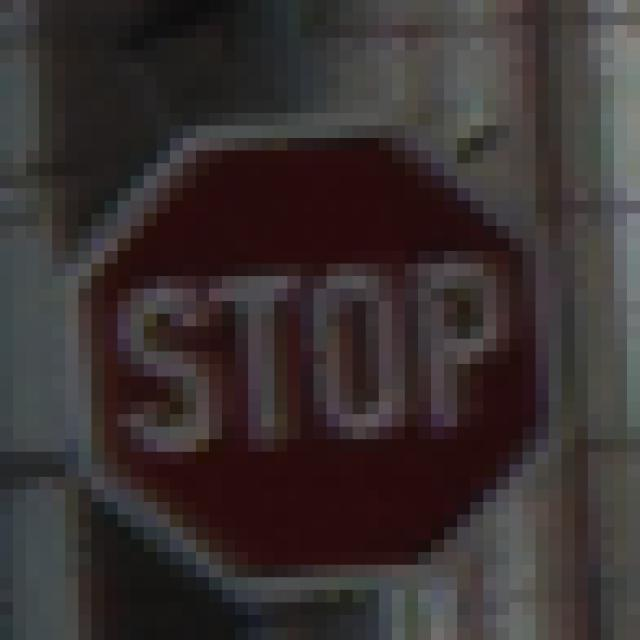STOP: (66, 77, 576, 579)
